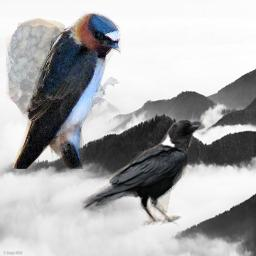Crow: (80, 115, 208, 226)
Swallow: (6, 11, 121, 169)
